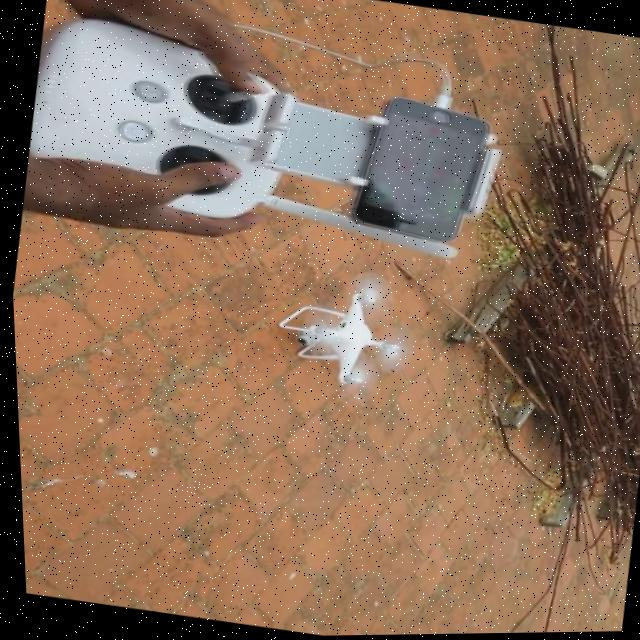drones: (249, 261, 433, 411)
